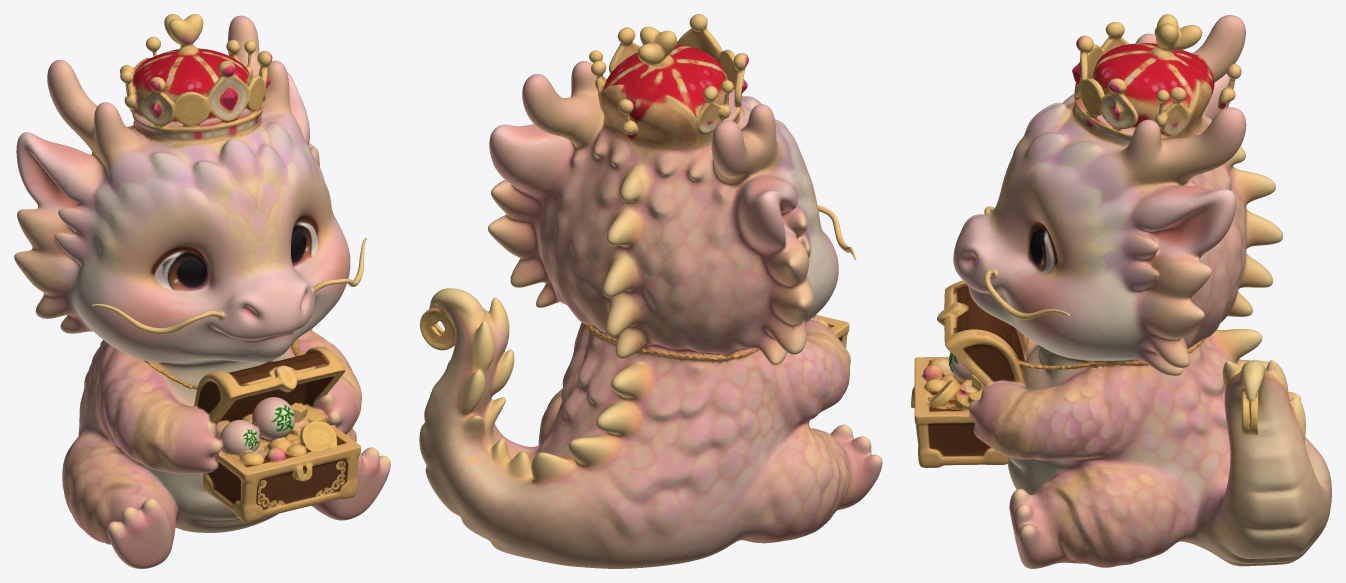
Rendered from dragon.glb.
3 renders of one model, left to right at view 1: azimuth 30°, elevation 25°; view 2: azimuth 150°, elevation 25°; view 3: azimuth 270°, elevation 25°, orthographic. The views are drawn at different scales.
Size of the model in its own units: 1.42 by 1.9 by 1.46.
1 material, 1 textured.
